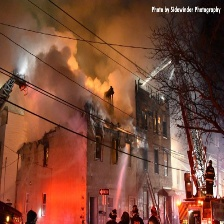smoke: (34, 3, 134, 111)
